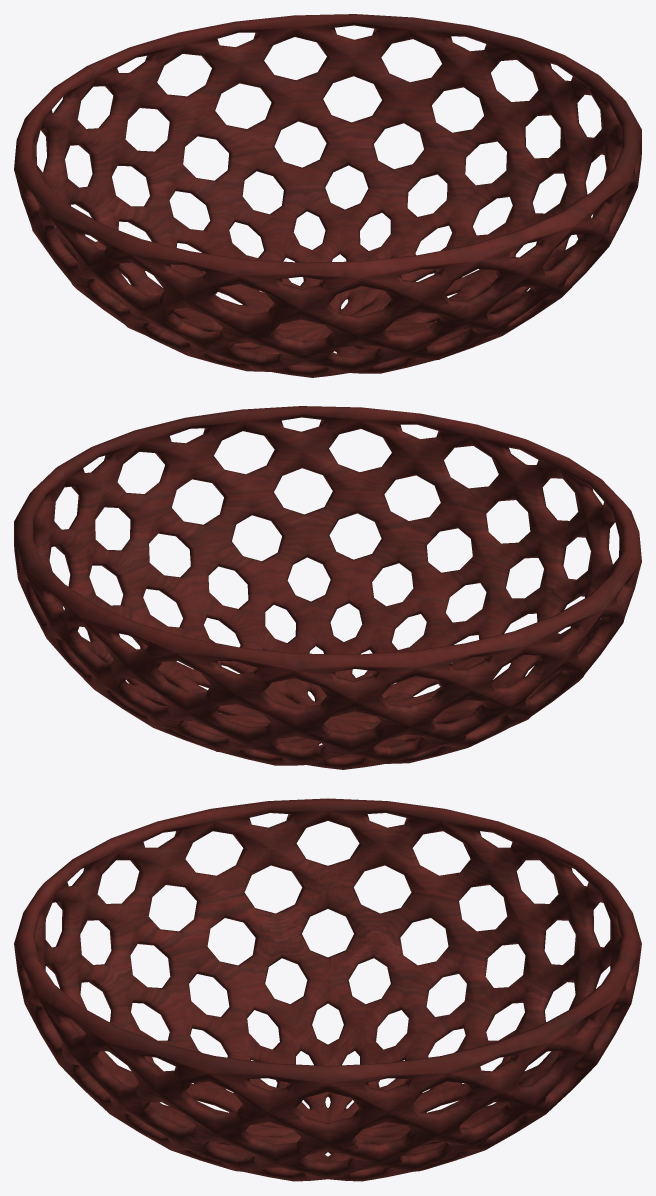
The model's file is obj_basket_a80cc0.glb.
The picture shows the model from 3 angles, top to bottom: view 1: azimuth 30°, elevation 25°; view 2: azimuth 150°, elevation 25°; view 3: azimuth 270°, elevation 25°; orthographic projection. The views are drawn at different scales.
Visible parts, largest first — view 1: obj_basket_a80cc0; view 2: obj_basket_a80cc0; view 3: obj_basket_a80cc0.
Part boxes in pixels (x1,y1,x2,y2): obj_basket_a80cc0: (14,14,641,377); obj_basket_a80cc0: (14,406,641,769); obj_basket_a80cc0: (14,798,641,1181).
Size of the model in its own units: 0.28 by 0.0971 by 0.2659.
Materials: 1 (1 with a texture image).
